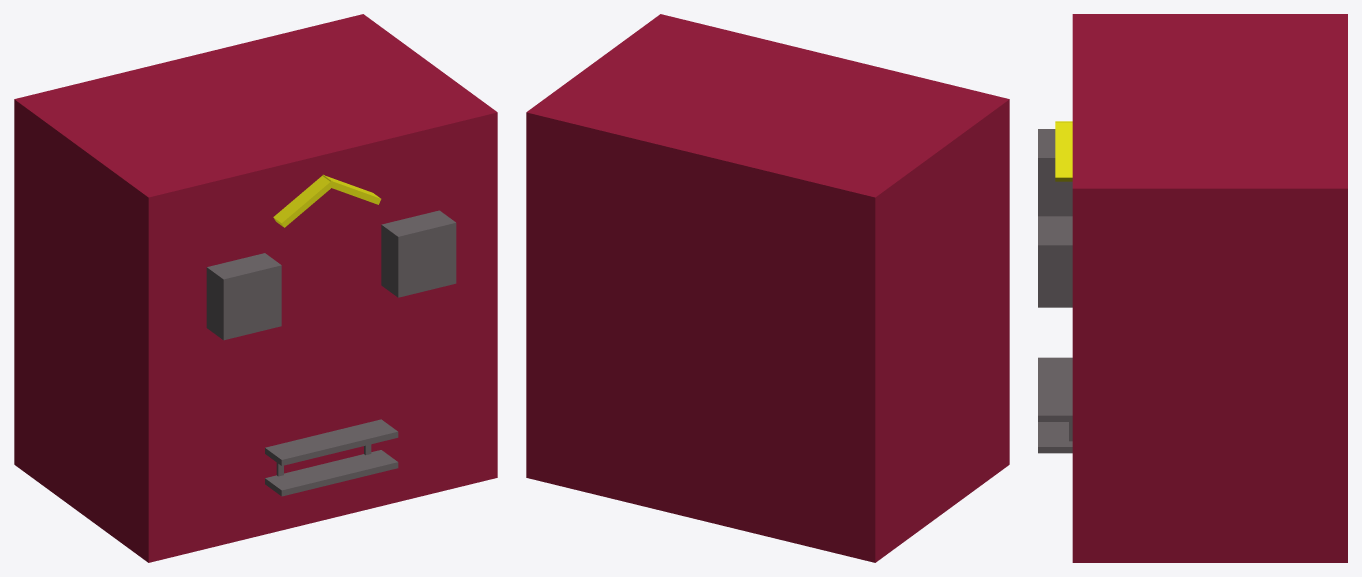
Rendered from DaemonHead.fbx.
3 renders of one model, left to right at view 1: azimuth 30°, elevation 25°; view 2: azimuth 150°, elevation 25°; view 3: azimuth 270°, elevation 25°, orthographic. The views are drawn at different scales.
Parts seen in each view (by area): view 1: Cube.001, Cube.003, Cube.002, Cube.006, Cube.007, Cube.004; view 2: Cube.001; view 3: Cube.001, Cube.002, Cube.006, Cube.003, Cube.005, Cube.007.
Boxes of the visible parts, x1,y1,x2,y2 form: Cube.001: [14, 14, 497, 562]; Cube.003: [206, 253, 281, 340]; Cube.002: [381, 210, 456, 297]; Cube.006: [265, 419, 398, 465]; Cube.007: [265, 450, 398, 496]; Cube.004: [273, 174, 334, 227]; Cube.001: [526, 14, 1009, 562]; Cube.001: [1072, 14, 1347, 562]; Cube.002: [1038, 216, 1072, 307]; Cube.006: [1038, 357, 1072, 421]; Cube.003: [1038, 129, 1072, 216]; Cube.005: [1055, 121, 1072, 181]; Cube.007: [1038, 422, 1072, 453].
Bounding box in the file's own units: 144 × 144 × 108.
